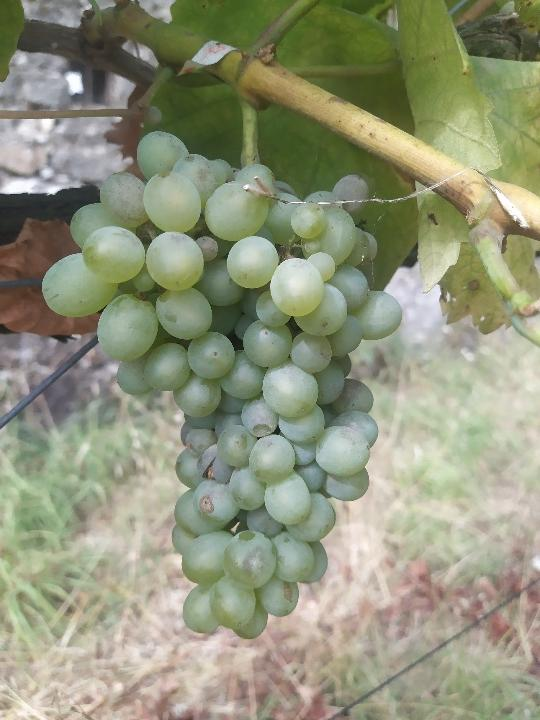grape: (41, 127, 399, 639)
